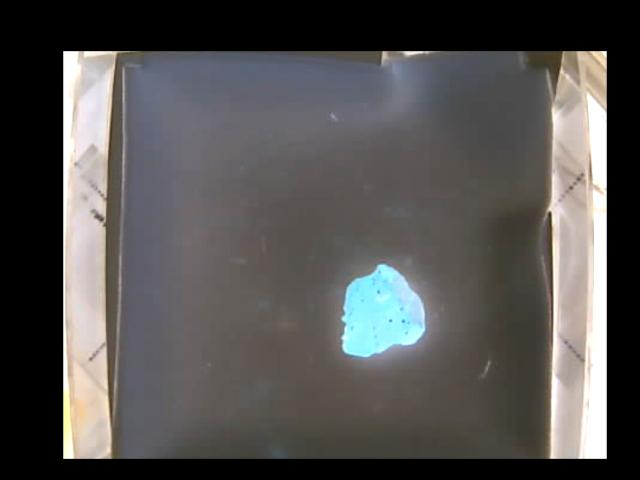Brisk: (340, 262, 426, 356)
